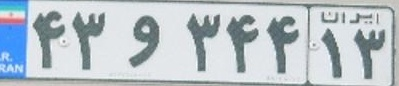character: (113, 4, 171, 75), (171, 4, 225, 77), (264, 4, 305, 83), (68, 3, 112, 72), (224, 4, 263, 78), (30, 3, 68, 71), (350, 24, 391, 86), (314, 24, 350, 83)
